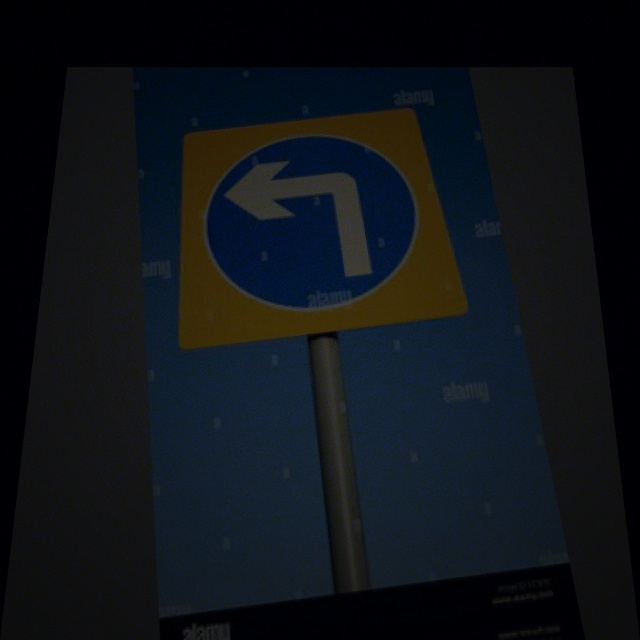Compulsory_Turn_Left_Ahead: (184, 118, 447, 333)
